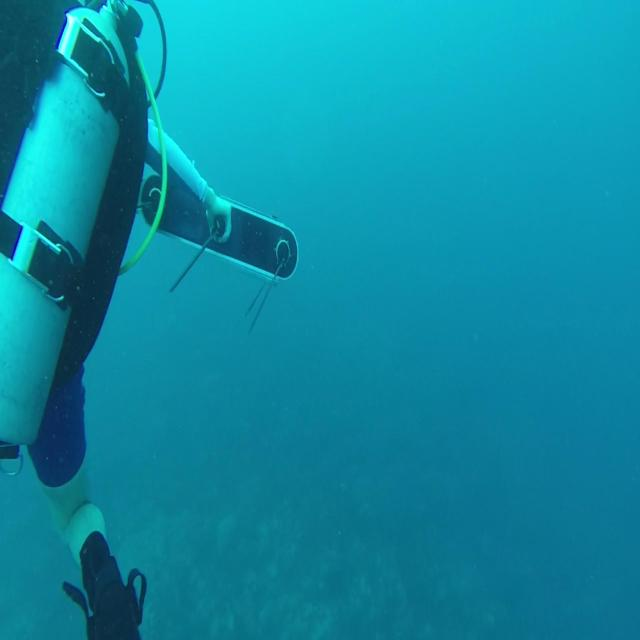human: (1, 0, 298, 638)
